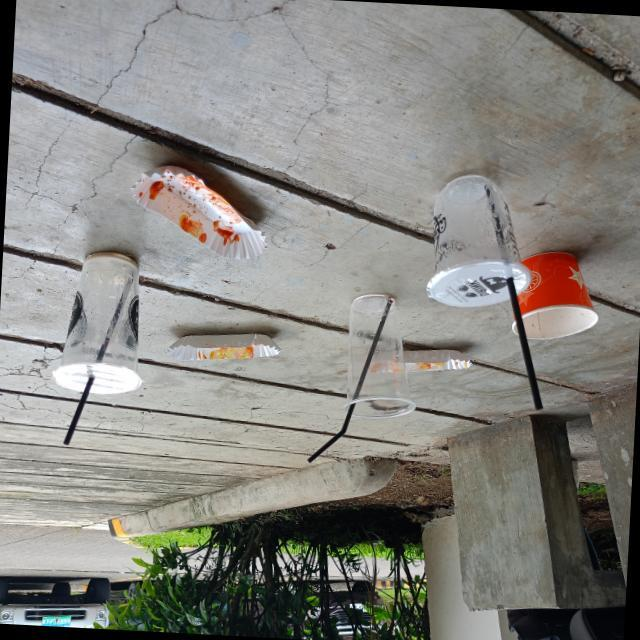recyclable waste: (408, 154, 548, 314), (118, 140, 288, 270), (41, 233, 158, 407), (326, 276, 432, 430), (493, 239, 617, 354), (354, 326, 488, 392), (158, 312, 288, 379)
